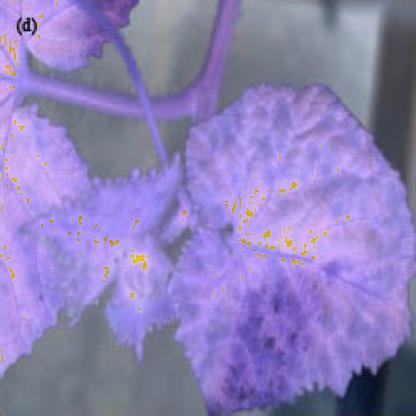Tomato leaf yellow virus: (183, 90, 408, 408)
